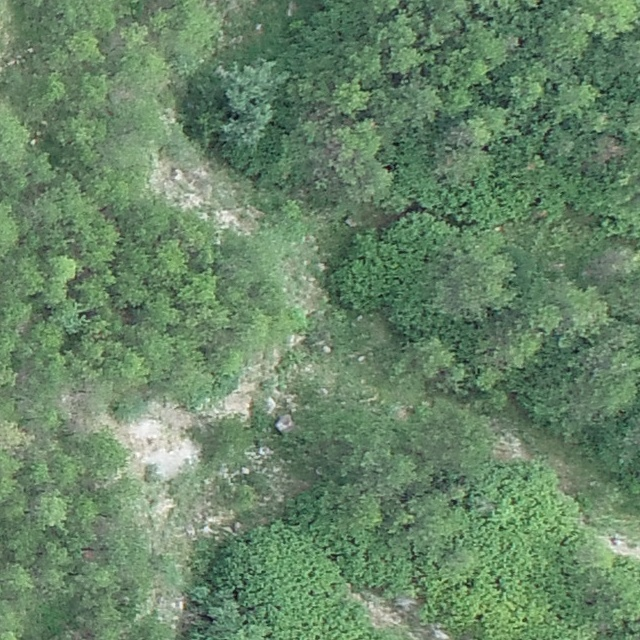unhealthy: (593, 135, 627, 164)
